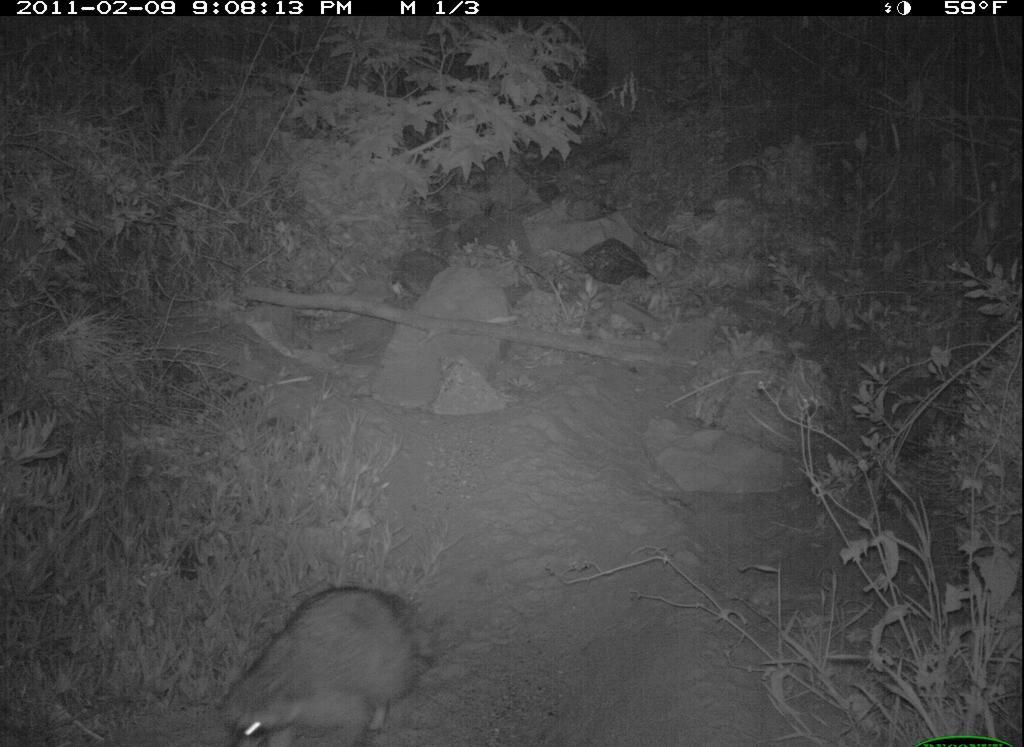raccoon: (213, 580, 438, 747)
